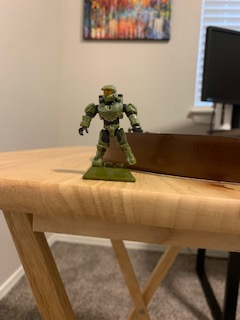chief: (77, 83, 143, 168)
spartan: (75, 81, 141, 166)
